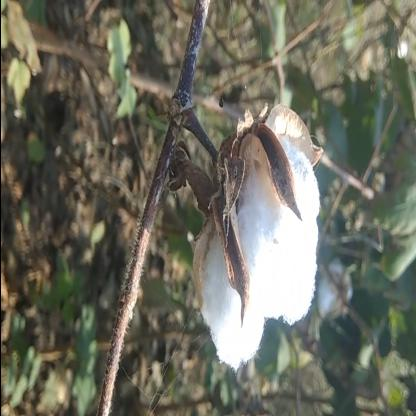cotton_ready: (147, 133, 334, 379)
